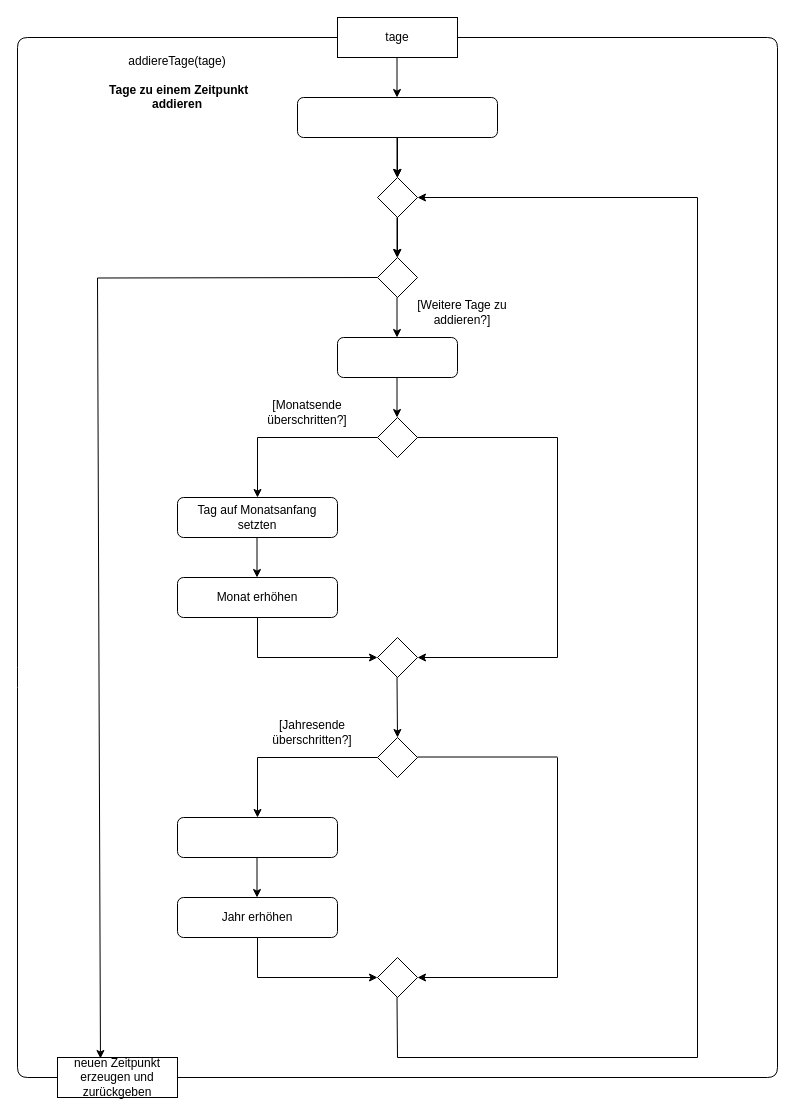
The diagram is 796 pixels wide and 1116 high, and some of its shapes have lost their labels. The shapes that lost their labels are listed below. From the top down, each one's centre as x and y in pixels, then its label:
At point 397,117: "Aktuelles Datum als Ausgangspunkt festlegen".
At point 397,357: "Tag erhöhen".
At point 257,837: "Monat auf Januar setzten".
